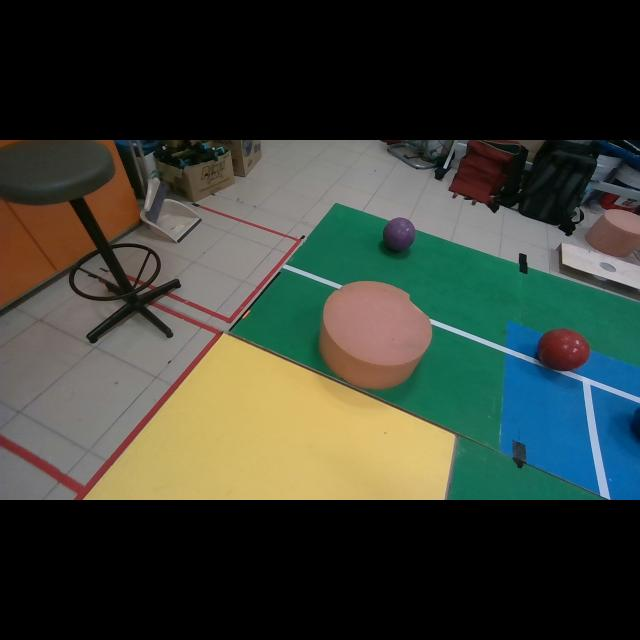P: (382, 218, 416, 251)
R: (538, 329, 590, 371)
